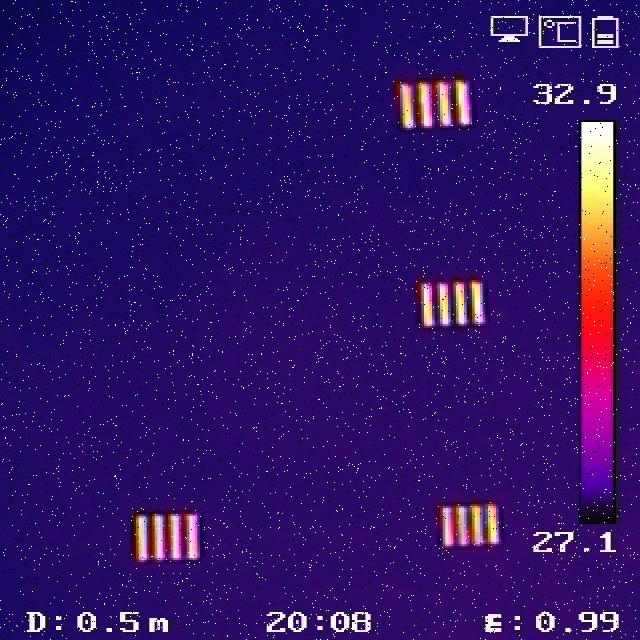Distinguishable 4-bar target: (396, 75, 479, 130), (416, 280, 487, 329), (131, 514, 201, 560), (440, 503, 503, 547)
